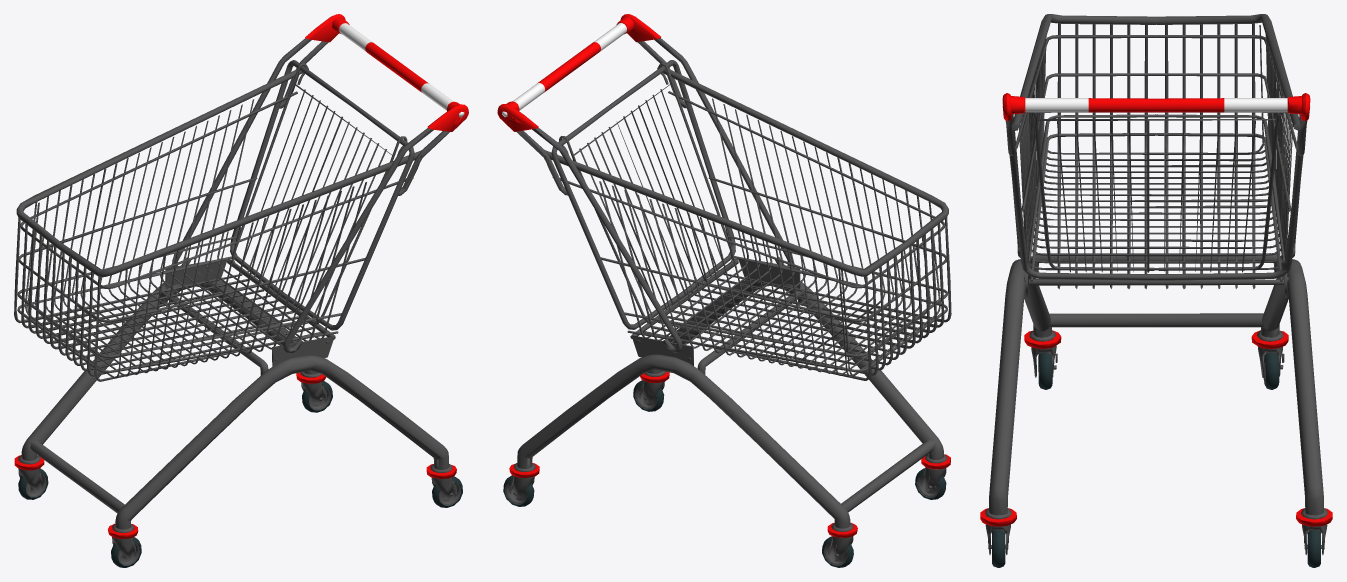
File: Shopping-cart_small.FBX
3 views of the same model, side by side, from view 1: azimuth 30°, elevation 25°; view 2: azimuth 150°, elevation 25°; view 3: azimuth 270°, elevation 25° (orthographic). The views are drawn at different scales.
Visible parts, largest first — view 1: cart; view 2: cart; view 3: cart.
Boxes of the visible parts, x1=… form: cart: x1=14, y1=14, x2=468, y2=567; cart: x1=497, y1=14, x2=951, y2=567; cart: x1=980, y1=14, x2=1332, y2=567.
Size of what is drawn, in the model's own units: 0.7284 by 0.7827 by 0.5193.
